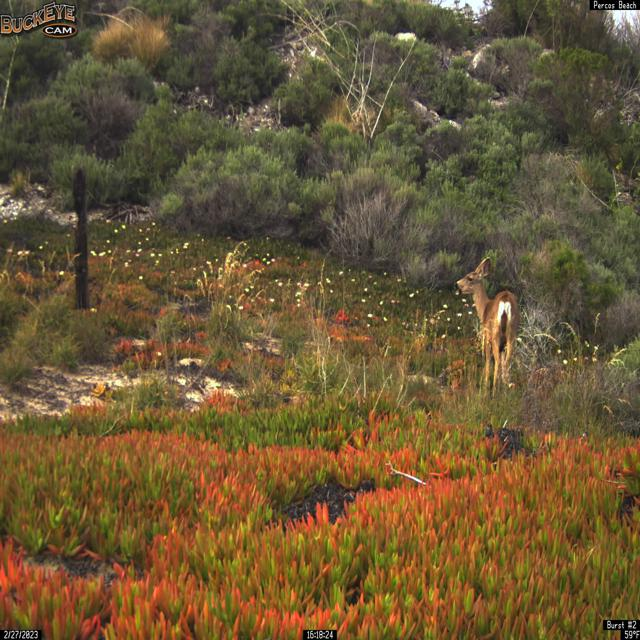deer: (453, 256, 522, 398)
